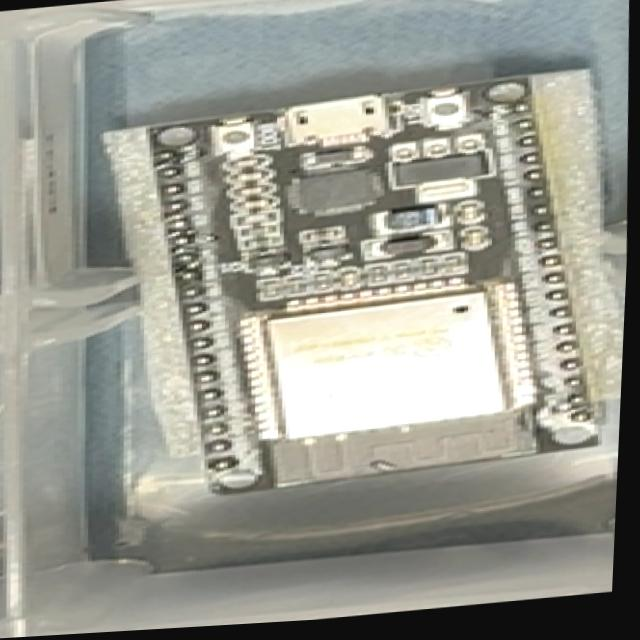ESP32: (119, 59, 615, 509)
